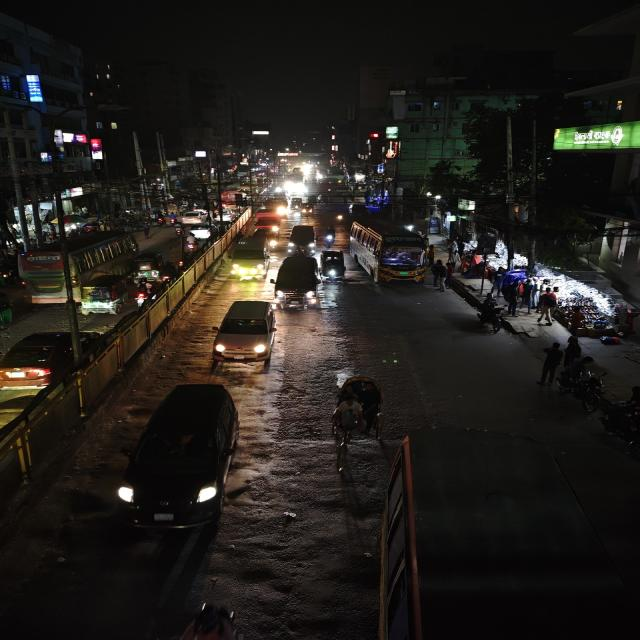bus: (378, 423, 638, 640), (17, 230, 140, 302), (349, 218, 431, 286)
car: (1, 326, 104, 394), (211, 296, 281, 368), (271, 252, 321, 311), (226, 238, 271, 282), (284, 222, 316, 254), (178, 222, 217, 239), (176, 210, 207, 226)
cng: (120, 382, 245, 533), (78, 274, 131, 314), (321, 247, 347, 283), (136, 249, 165, 277)
motorcycle: (554, 362, 609, 412), (594, 399, 640, 456), (475, 296, 506, 336), (134, 276, 158, 306), (181, 233, 202, 254), (322, 224, 337, 246), (266, 233, 280, 251)
pedestrian: (535, 342, 564, 386), (430, 259, 449, 291)
rickshaw: (328, 372, 390, 464)
truck: (252, 210, 282, 232)
